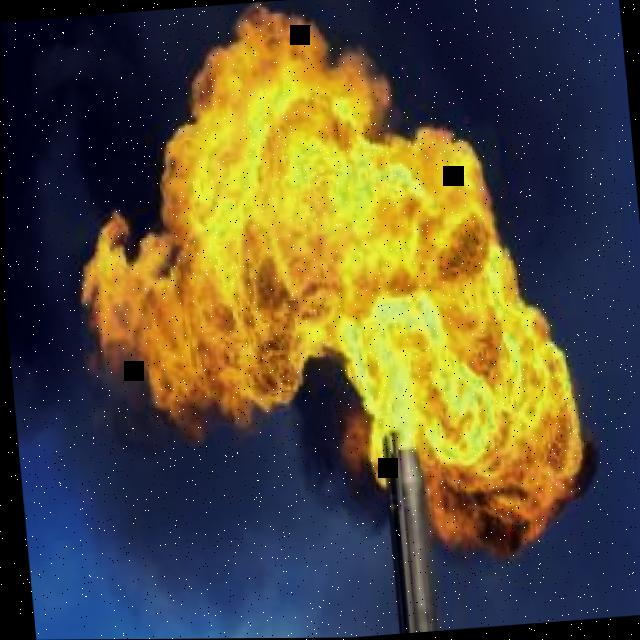fire: (77, 3, 593, 557)
smoke: (0, 2, 398, 635), (263, 0, 640, 630), (285, 363, 379, 525)
